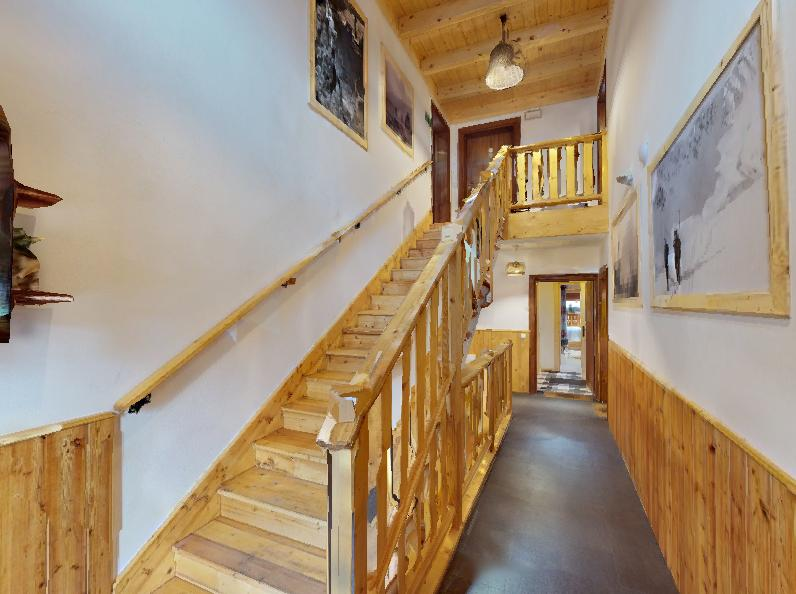door-frame: (524, 277, 597, 407)
stairs: (94, 136, 513, 594)
